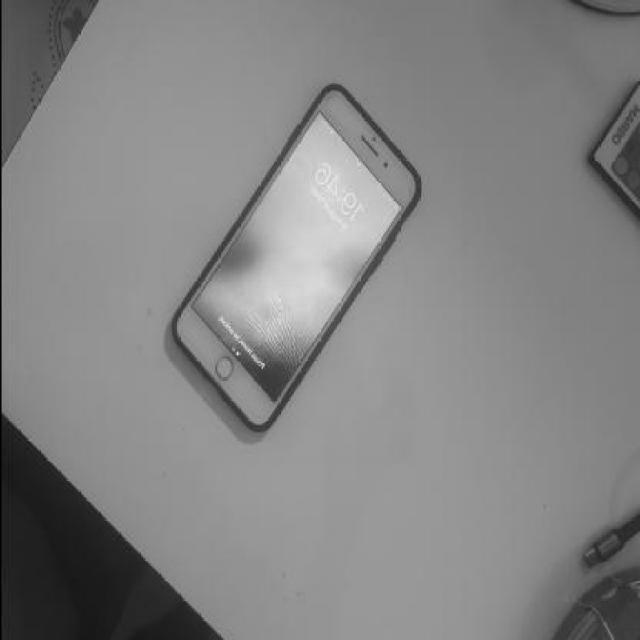fake: (172, 82, 422, 427)
